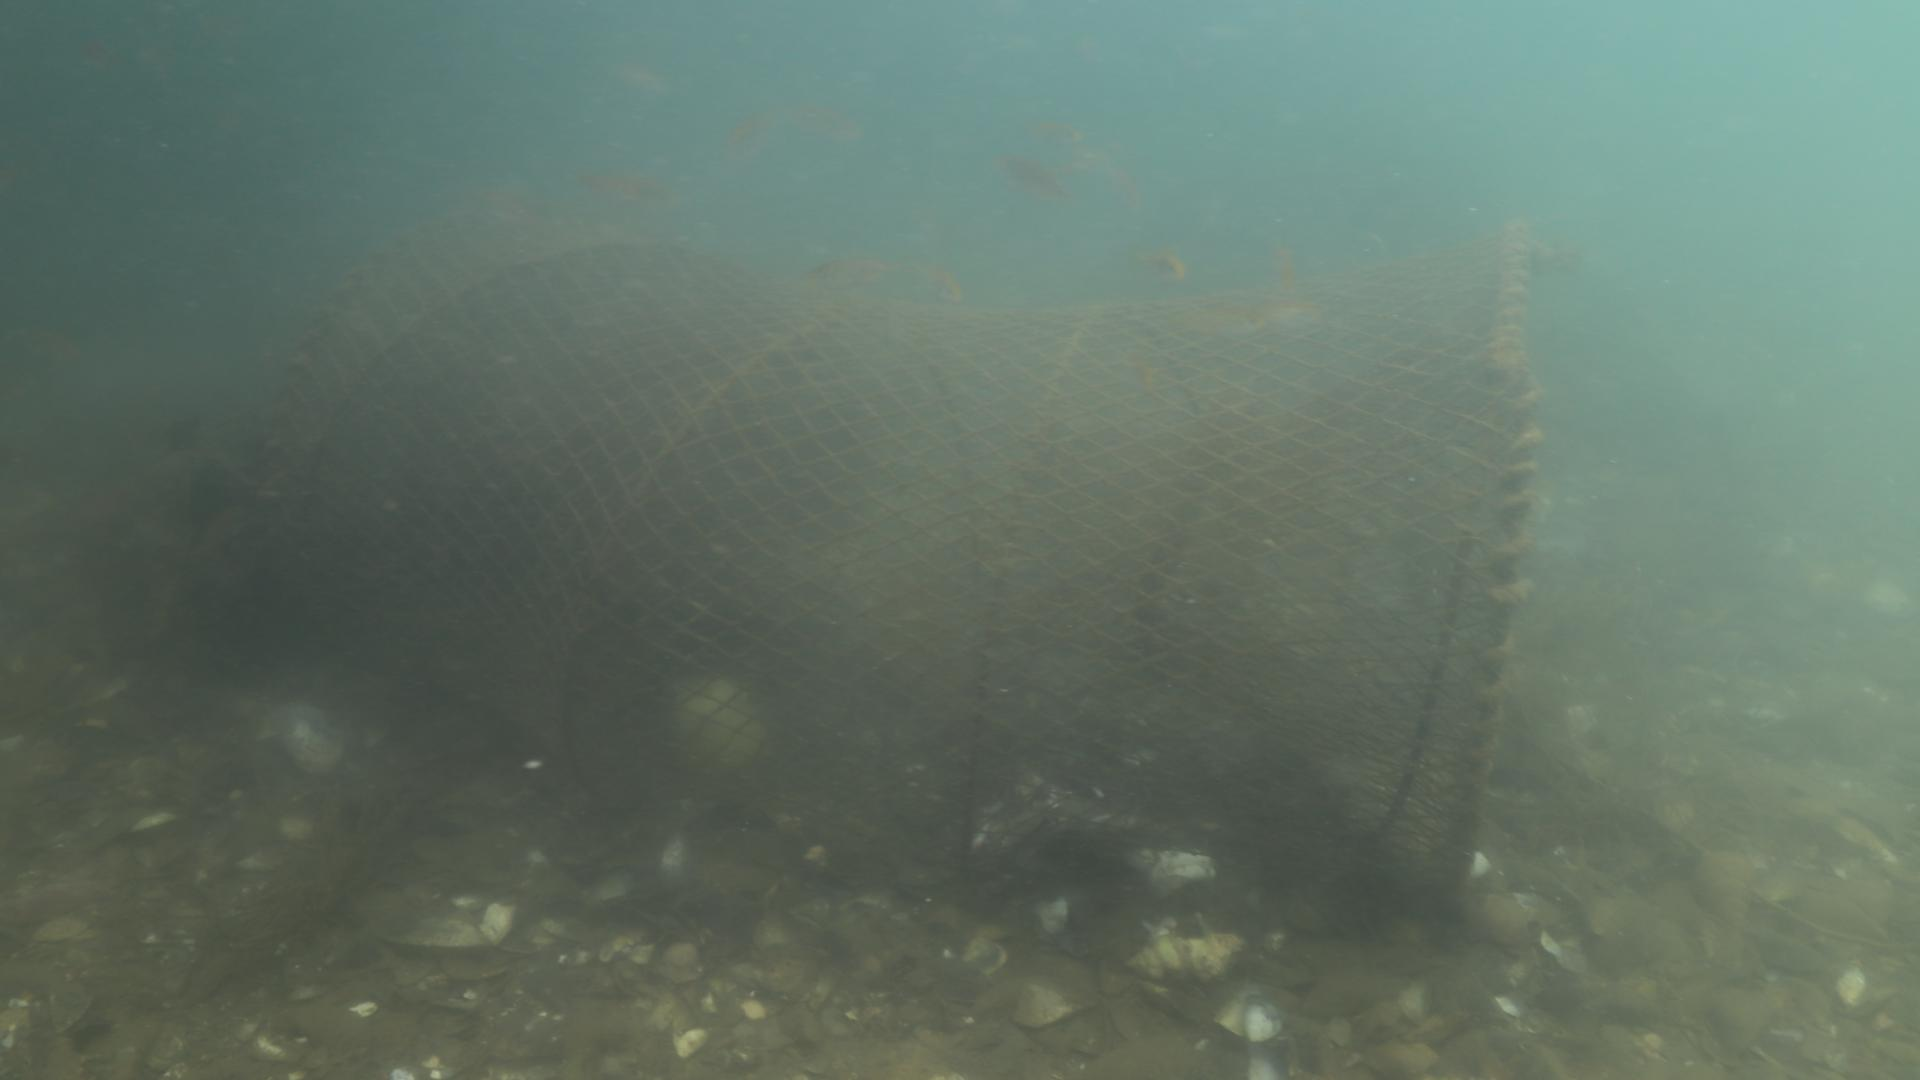spring fish trap: (260, 186, 1544, 916)
